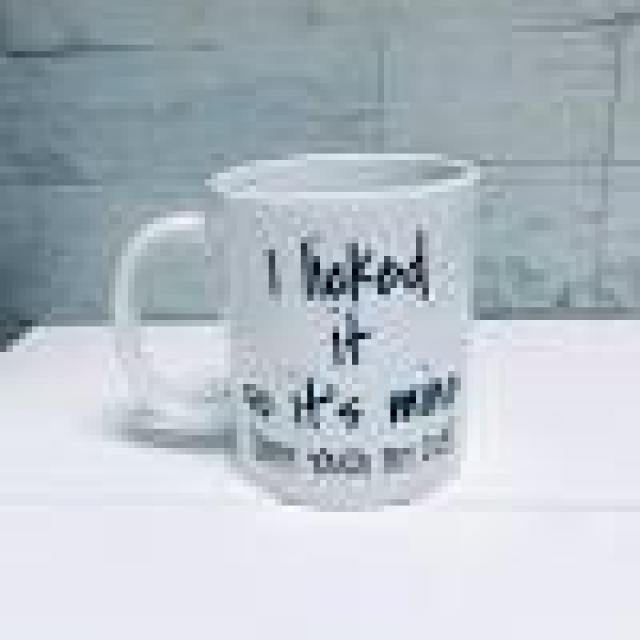taza: (98, 130, 540, 525)
